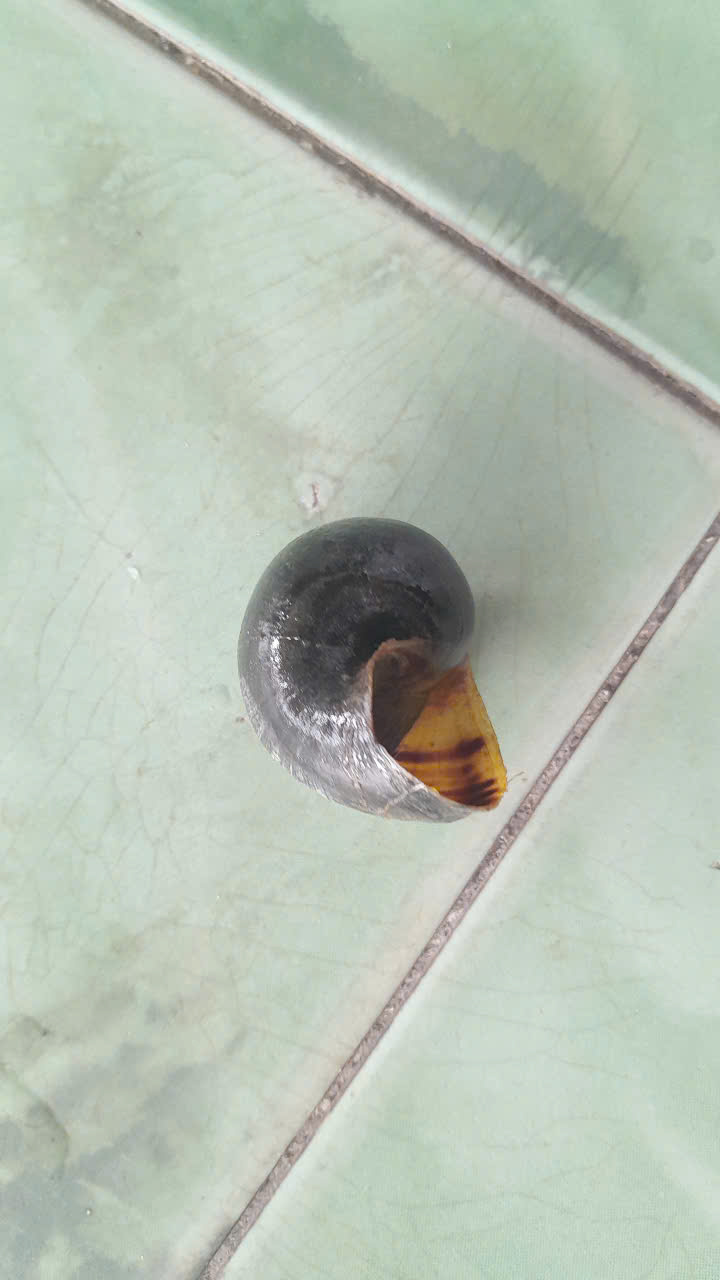oc_buou_vang: (235, 505, 524, 863)
